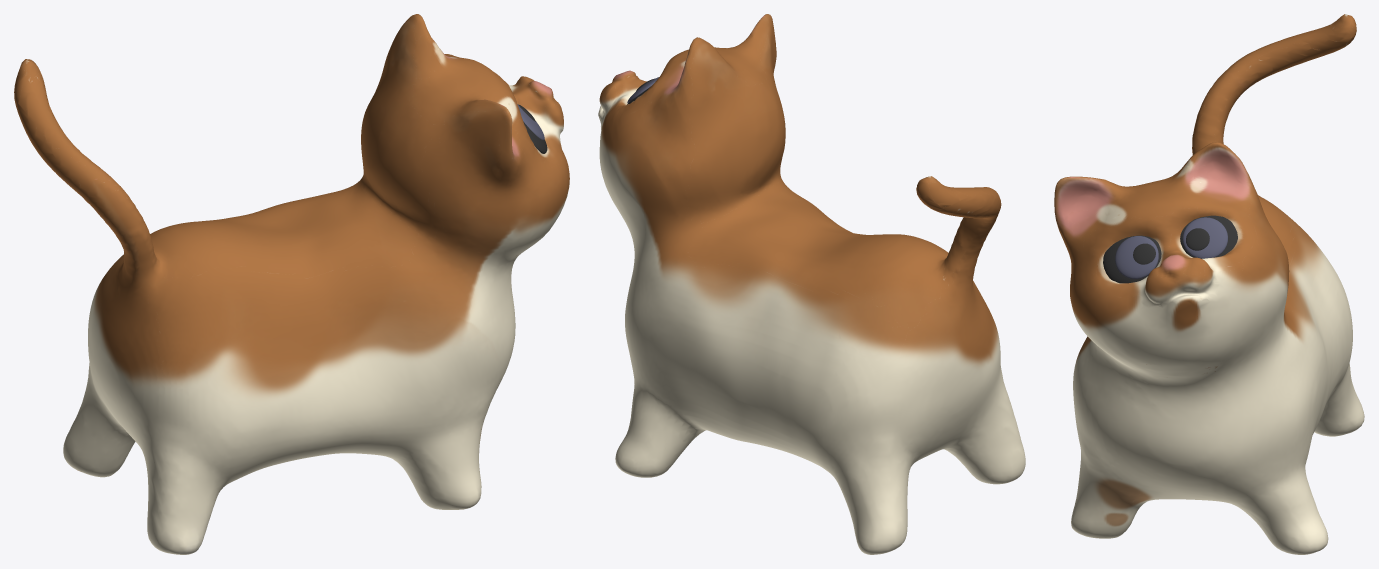
Rendered from catf.glb.
3 renders of one model, left to right at view 1: azimuth 30°, elevation 25°; view 2: azimuth 150°, elevation 25°; view 3: azimuth 270°, elevation 25°, orthographic. The views are drawn at different scales.
Parts seen in each view (by area): view 1: Mball.011; view 2: Mball.011; view 3: Mball.011, Sphere.002, Sphere.003, Sphere, Sphere.001, Sphere.005, Sphere.004.
Part boxes in pixels (x1,y1,x2,y2): Mball.011: (14, 14, 569, 554); Mball.011: (598, 14, 1025, 554); Mball.011: (1054, 14, 1364, 554); Sphere.002: (1115, 236, 1158, 278); Sphere.003: (1182, 217, 1227, 258); Sphere: (1103, 235, 1161, 283); Sphere.001: (1180, 215, 1237, 257); Sphere.005: (1186, 228, 1209, 250); Sphere.004: (1133, 243, 1155, 264).
Bounding box in the file's own units: 4.83 × 4.35 × 3.01.
Materials: 3 (1 with a texture image).
